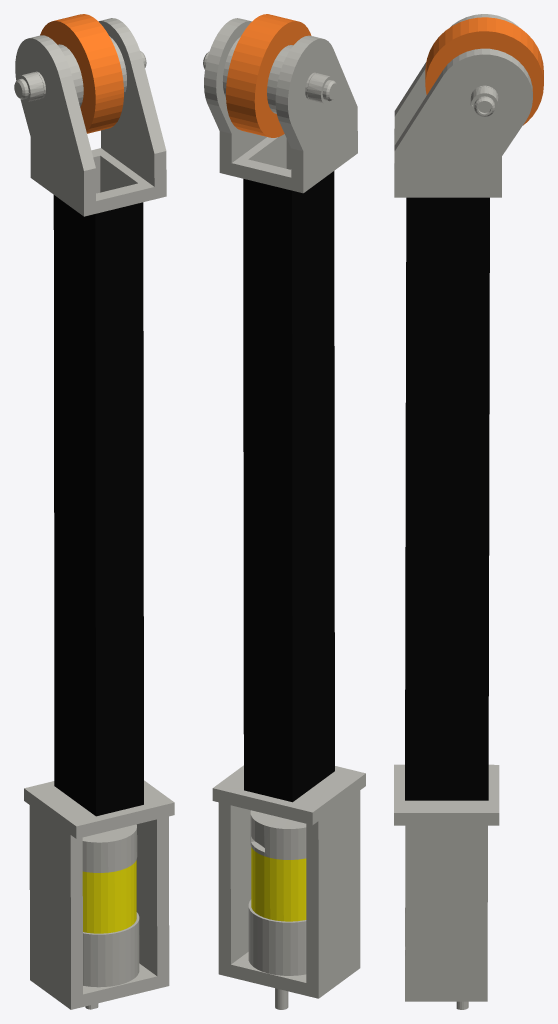
Rendered from codo.obj.
3 views of the same model, side by side, from view 1: azimuth 30°, elevation 25°; view 2: azimuth 150°, elevation 25°; view 3: azimuth 270°, elevation 25° (orthographic).
Parts seen in each view (by area): view 1: Object.1; view 2: Object.1; view 3: Object.1.
Part boxes in pixels (box(x1,y1,x2,y2)): Object.1: box(14, 14, 174, 1009); Object.1: box(203, 14, 365, 1009); Object.1: box(394, 14, 543, 1009).
Bounding box in the file's own units: 65.65 × 494 × 68.27.
